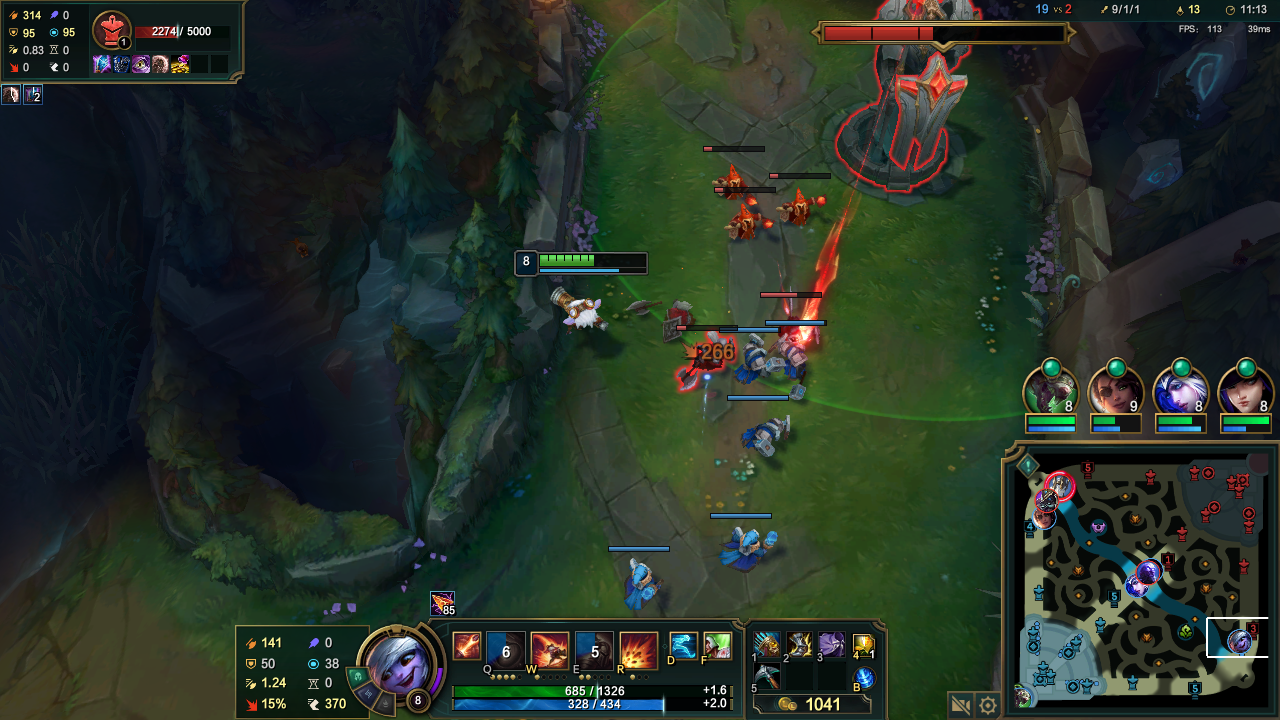DFFYT: (806, 20, 965, 190)
DFXB: (676, 334, 732, 391), (713, 200, 782, 246), (780, 186, 834, 226), (705, 164, 753, 196)
WFXB: (714, 520, 795, 583), (618, 554, 676, 612), (733, 413, 792, 467), (777, 340, 816, 398), (736, 336, 779, 386)
Yita: (1184, 673, 1206, 696)
